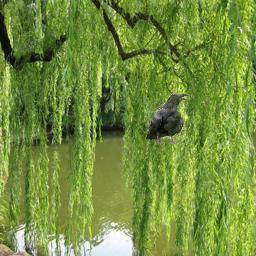Crow: (145, 93, 189, 145)
